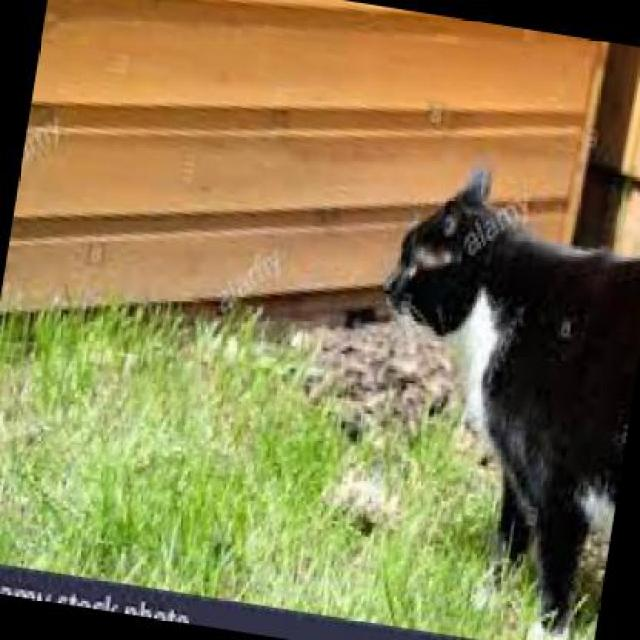animals: (337, 164, 638, 614)
